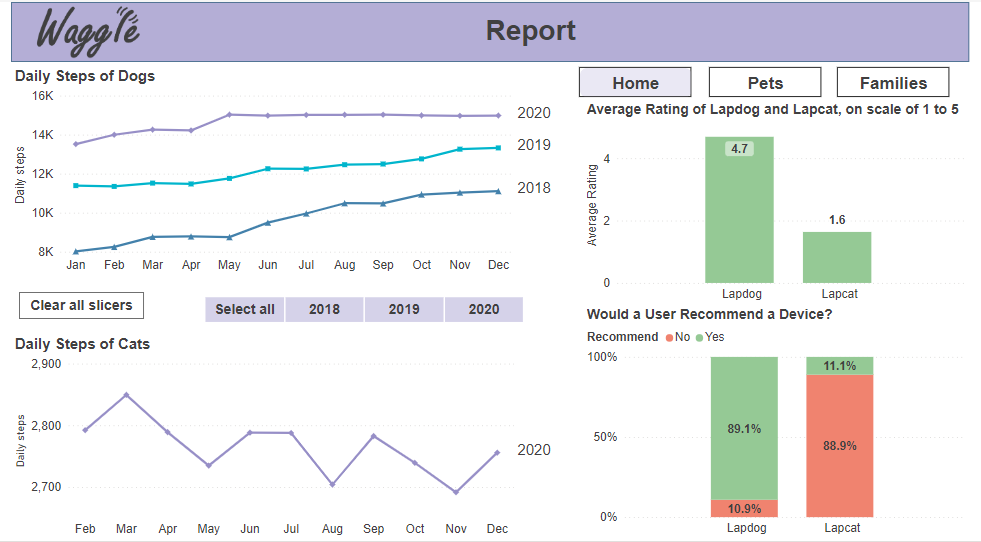

What the dashboard file says about the page in this screenshot:
{"tool":"powerbi","page":{"name":"Home","canvas":[1280,720],"ordinal":0},"visuals":[{"type":"lineChart","title":"Daily Steps of Dogs","fields":{"Y":["Avg(Tracker_Data.Daily_Steps)"],"Series":["Date_Table.Year"],"Category":["Date_Table.Month_Short"]},"box":[0,87.7,728.6,280.2],"z":0},{"type":"clusteredColumnChart","title":"Average Rating of devices for dogs and cats, on scale of 1 to 5 ","fields":{"Y":["Avg(Rating_Data.Rating)"],"Category":["Rating_Data.Device type"]},"box":[743,132.2,536,278.8],"z":1000},{"type":"shape","box":[0,0,1280,80],"z":2000},{"type":"actionButton","title":"Pets Info","box":[932.3,87.3,149.5,40.3],"z":3000},{"type":"actionButton","title":"Families Info","box":[1103.6,87.3,149.5,40.3],"z":4000},{"type":"lineChart","title":"Daily Steps of Cats","fields":{"Y":["Avg(Tracker_Data.Daily_Steps)"],"Series":["Date_Table.Year"],"Category":["Date_Table.Month_Short"]},"box":[0,445.5,728.6,274.5],"z":5000},{"type":"slicer","fields":{"Values":["Date_Table.Year"]},"box":[234.3,388,474.3,46],"z":6000},{"type":"textbox","box":[513.1,11.5,362.2,57.5],"z":7000},{"type":"hundredPercentStackedColumnChart","title":"Would a User Recommend a Device?","fields":{"Y":["CountNonNull(Rating_Data.Tracker_ID)"],"Category":["Rating_Data.Device type"],"Series":["Rating_Data.Recommend"]},"box":[743,411,536,309],"z":8000},{"type":"actionButton","title":"Pets Info","box":[759.3,87.3,149.5,40.3],"z":9000},{"type":"actionButton","box":[10.1,388,166.7,35.9],"z":11000}]}

Visuals, with their boxes in screenshot pixels (x1, y1, x2, y2), scaled from the page's 1280x720 canvas onto the 981x542 screenshot:
"Daily Steps of Dogs" lineChart: bbox=(0, 66, 558, 277)
"Average Rating of devices for dogs and cats, on scale of 1 to 5 " clusteredColumnChart: bbox=(569, 100, 980, 309)
shape: bbox=(0, 0, 980, 60)
"Pets Info" actionButton: bbox=(715, 66, 829, 96)
"Families Info" actionButton: bbox=(846, 66, 960, 96)
"Daily Steps of Cats" lineChart: bbox=(0, 335, 558, 541)
slicer - Date_Table.Year: bbox=(180, 292, 543, 327)
textbox: bbox=(393, 9, 671, 52)
"Would a User Recommend a Device?" hundredPercentStackedColumnChart: bbox=(569, 309, 980, 541)
"Pets Info" actionButton: bbox=(582, 66, 697, 96)
actionButton: bbox=(8, 292, 136, 319)
